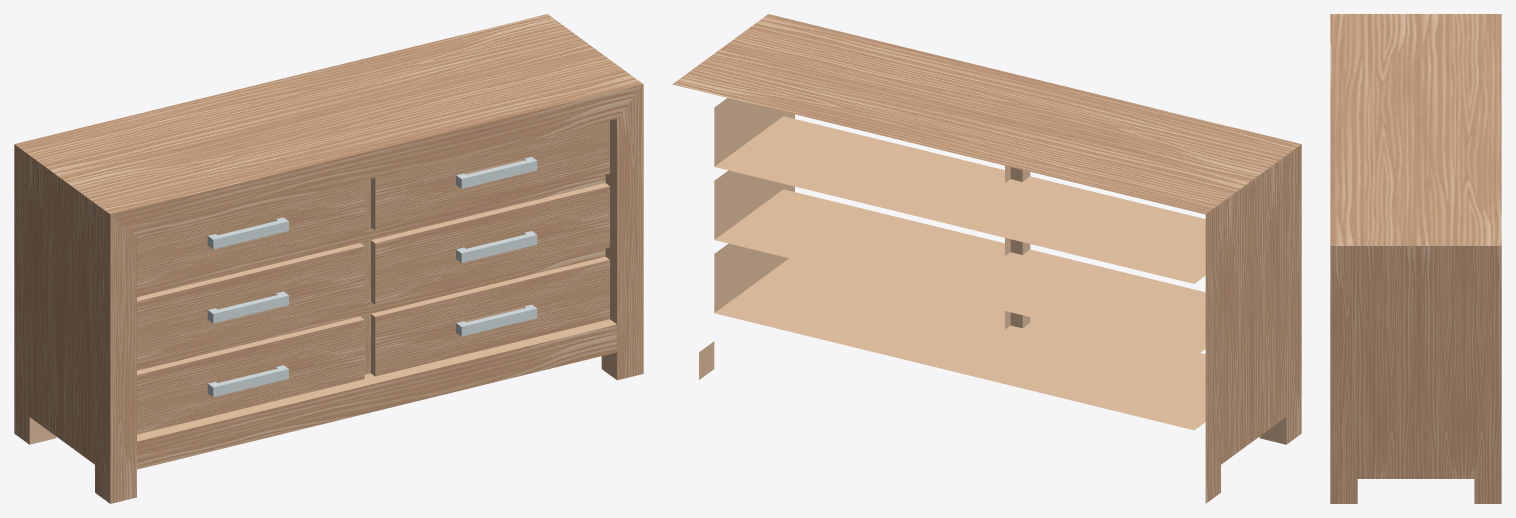
The model's file is cassettiera-texture.glb.
3 renders of one model, left to right at view 1: azimuth 30°, elevation 25°; view 2: azimuth 150°, elevation 25°; view 3: azimuth 270°, elevation 25°, orthographic. The views are drawn at different scales.
Parts seen in each view (by area): view 1: cabinetTelevision(Clone), drawerTop.004, drawerTop.006, drawerTop.003, drawerTop.005, drawerTop.001, drawerTop.002; view 2: cabinetTelevision(Clone); view 3: cabinetTelevision(Clone).
Part boxes in pixels (x1=…): cabinetTelevision(Clone): x1=14, y1=14, x2=643, y2=503; drawerTop.004: x1=371, y1=183, x2=609, y2=304; drawerTop.006: x1=371, y1=256, x2=609, y2=376; drawerTop.003: x1=137, y1=243, x2=364, y2=362; drawerTop.005: x1=137, y1=316, x2=364, y2=434; drawerTop.001: x1=371, y1=120, x2=609, y2=230; drawerTop.002: x1=137, y1=180, x2=364, y2=288; cabinetTelevision(Clone): x1=672, y1=14, x2=1301, y2=503; cabinetTelevision(Clone): x1=1330, y1=14, x2=1501, y2=503.
Bounding box in the file's own units: 0.8 × 0.4148 × 0.25.
Materials: 3 (1 with a texture image).
